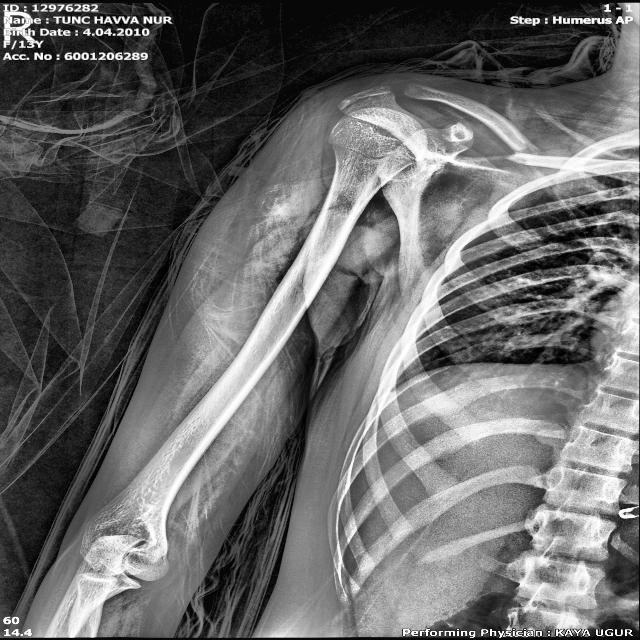Fracture: (505, 142, 552, 169)
